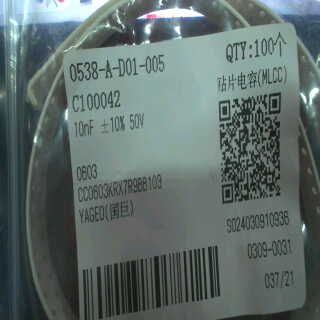10nF: (72, 116, 98, 140)
